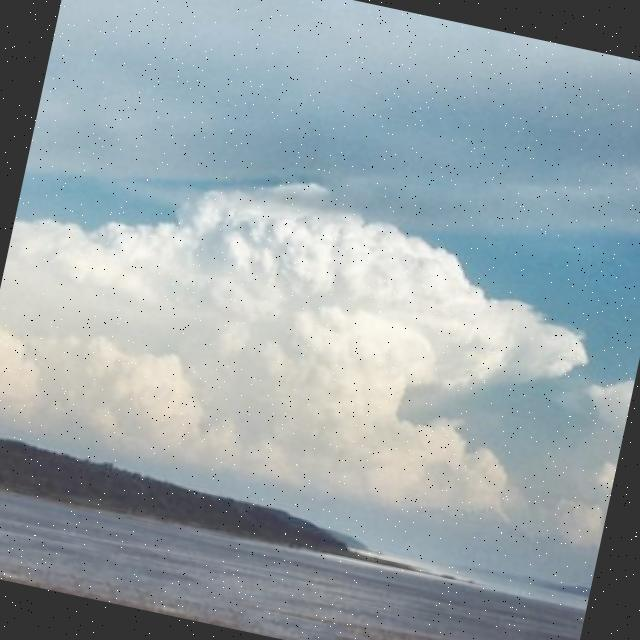As: (1, 111, 640, 546)
